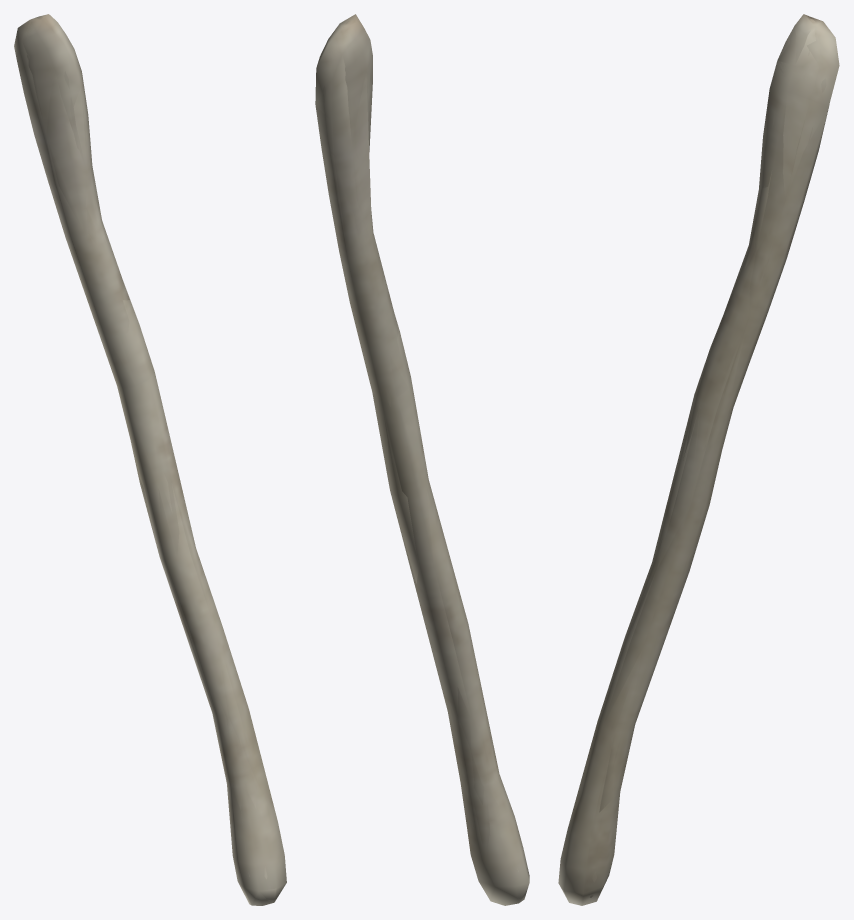
Rendered from R metatarsi quintum.fbx.
3 views of the same model, side by side, from view 1: azimuth 90°, elevation 25°; view 2: azimuth 150°, elevation 25°; view 3: azimuth 270°, elevation 25° (orthographic). The views are drawn at different scales.
Parts seen in each view (by area): view 1: R metatarsi quintum, R metatarsi quintum low, R metatarsi quintum high; view 2: R metatarsi quintum low, R metatarsi quintum, R metatarsi quintum high; view 3: R metatarsi quintum, R metatarsi quintum low, R metatarsi quintum high.
Boxes of the visible parts, bbox=[...] form: R metatarsi quintum: bbox=[14, 14, 286, 905]; R metatarsi quintum low: bbox=[17, 17, 283, 902]; R metatarsi quintum high: bbox=[27, 17, 268, 879]; R metatarsi quintum low: bbox=[315, 22, 527, 901]; R metatarsi quintum: bbox=[315, 14, 529, 905]; R metatarsi quintum high: bbox=[322, 21, 526, 871]; R metatarsi quintum: bbox=[558, 14, 839, 905]; R metatarsi quintum low: bbox=[565, 17, 830, 902]; R metatarsi quintum high: bbox=[578, 18, 826, 897].
Bounding box in the file's own units: 0.5868 × 5.77 × 1.63.
Materials: 1 (1 with a texture image).
